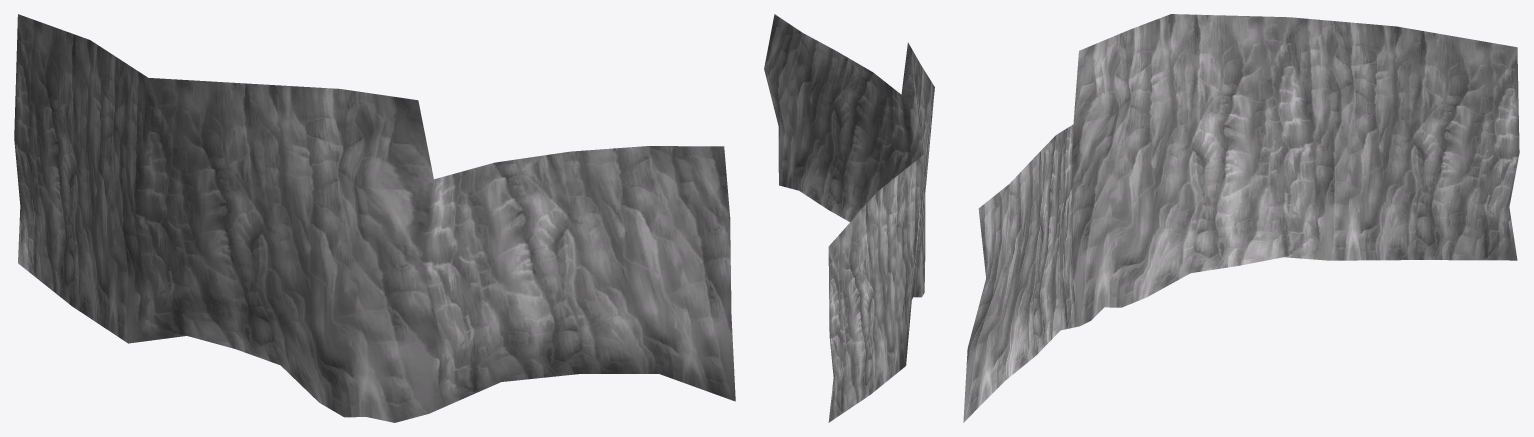
Rendered from SWORDLIGHT20_PS-AREA03_187.fbx.
The picture shows the model from 3 angles, left to right: view 1: azimuth 30°, elevation 25°; view 2: azimuth 150°, elevation 25°; view 3: azimuth 270°, elevation 25°; orthographic projection. The views are drawn at different scales.
Visible parts, largest first — view 1: SWORDLIGHT20_PS-AREA03_187; view 2: SWORDLIGHT20_PS-AREA03_187; view 3: SWORDLIGHT20_PS-AREA03_187.
Boxes of the visible parts, box(x1,y1,x2,y2) form: SWORDLIGHT20_PS-AREA03_187: box(14, 14, 735, 422); SWORDLIGHT20_PS-AREA03_187: box(764, 14, 934, 422); SWORDLIGHT20_PS-AREA03_187: box(963, 14, 1519, 422).
Size of the model in its own units: 127536 by 97931 by 177460.
Materials: 1 (1 with a texture image).
